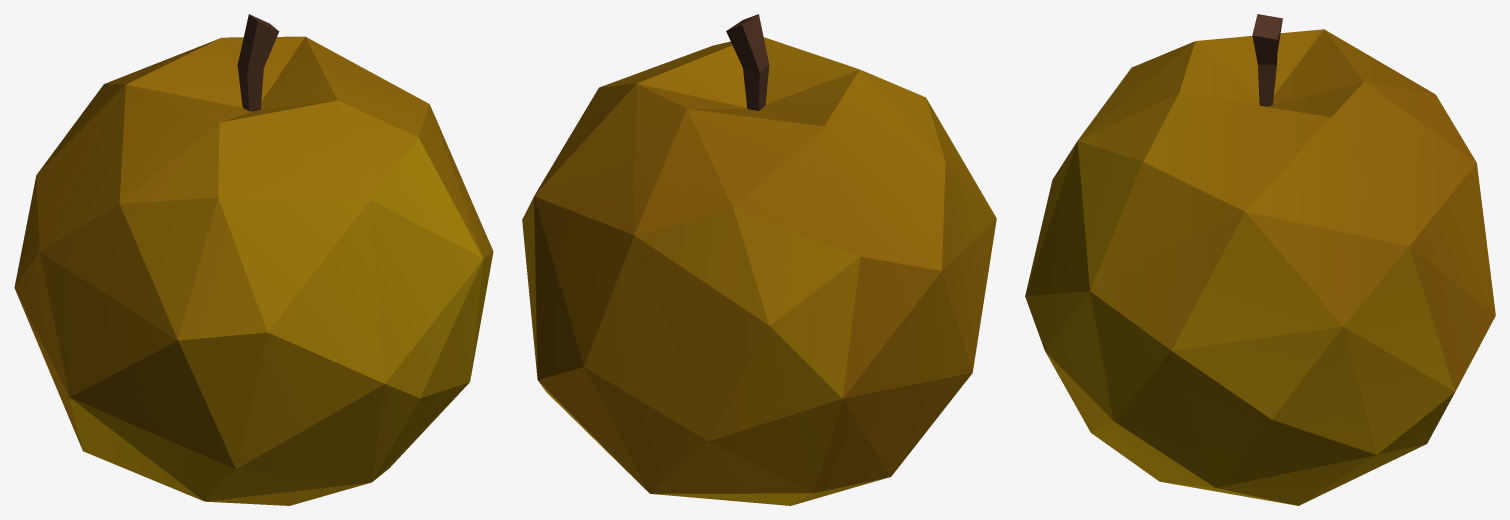
The model's file is YellowAplle.fbx.
3 renders of one model, left to right at view 1: azimuth 30°, elevation 25°; view 2: azimuth 150°, elevation 25°; view 3: azimuth 270°, elevation 25°, orthographic.
Parts seen in each view (by area): view 1: Cube.010; view 2: Cube.010; view 3: Cube.010.
Part boxes in pixels (x1,y1,x2,y2): Cube.010: [14, 14, 493, 505]; Cube.010: [522, 14, 996, 505]; Cube.010: [1025, 14, 1495, 505].
Bounding box in the file's own units: 34.05 × 37.88 × 34.85.
